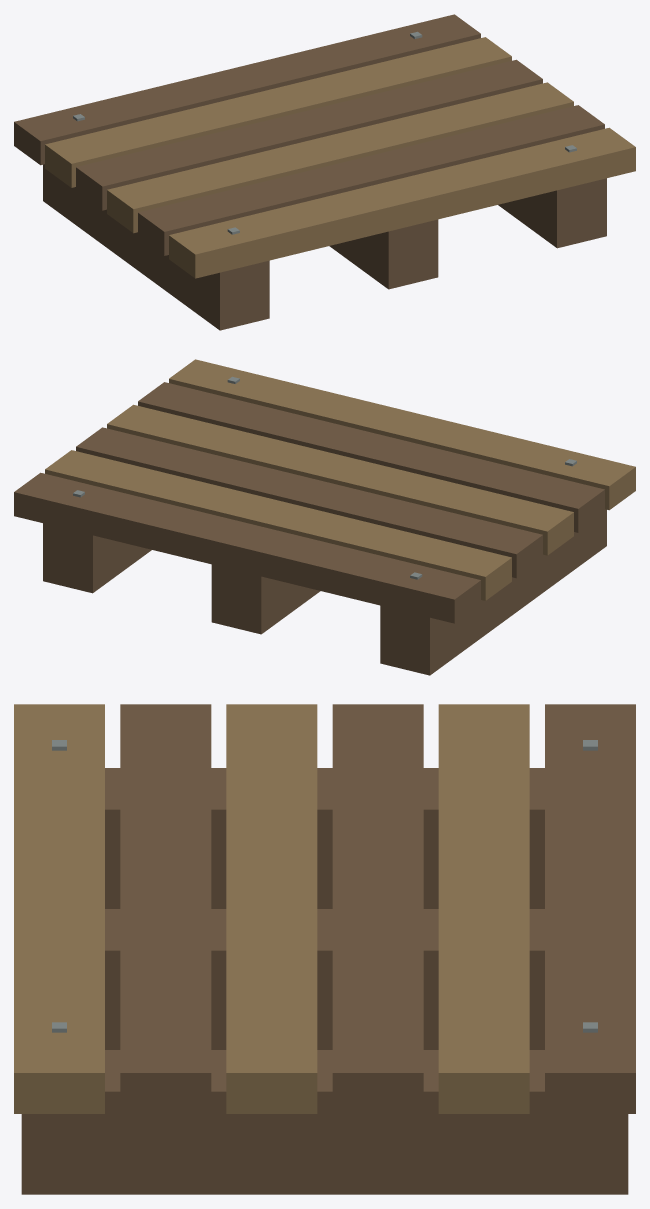
The model's file is wooden_pallet.glb.
3 views of the same model, one above another, from view 1: azimuth 30°, elevation 25°; view 2: azimuth 150°, elevation 25°; view 3: azimuth 270°, elevation 25° (orthographic). The views are drawn at different scales.
Visible parts, largest first — view 1: wooden_pallet_visual; view 2: wooden_pallet_visual; view 3: wooden_pallet_visual.
Part boxes in pixels (x1,y1,x2,y2): wooden_pallet_visual: (14, 14, 635, 330); wooden_pallet_visual: (14, 359, 635, 675); wooden_pallet_visual: (14, 704, 635, 1194).
Bounding box in the file's own units: 1.15 × 0.216 × 0.82.
